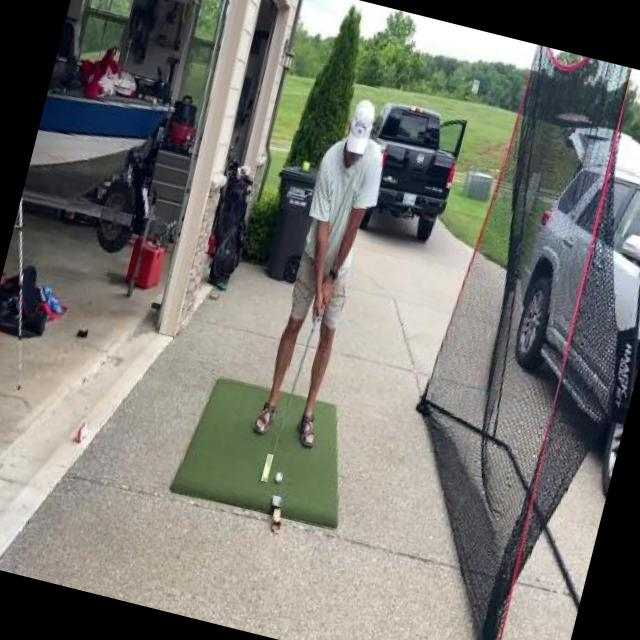club head: (260, 453, 273, 482)
